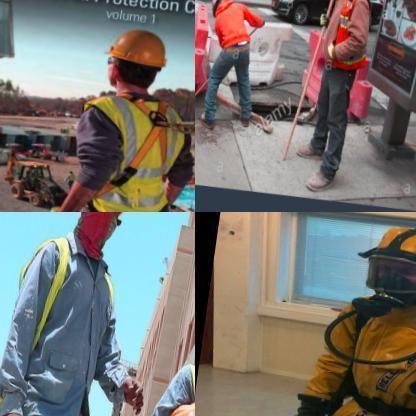Boots: (362, 220, 415, 316), (97, 24, 177, 74)
Glass: (0, 230, 135, 415), (68, 92, 190, 210), (320, 0, 371, 76), (209, 0, 268, 50)
